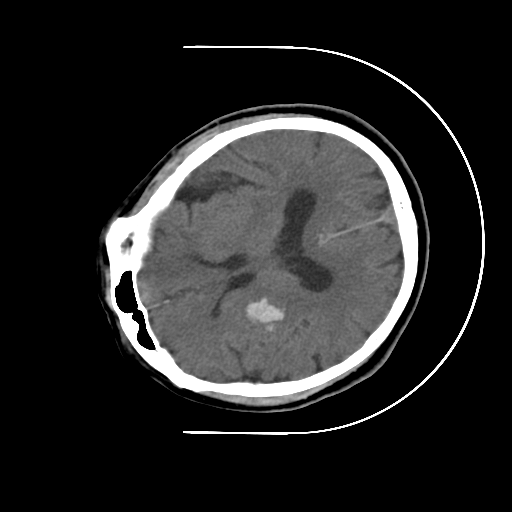a: (225, 278, 300, 337)
